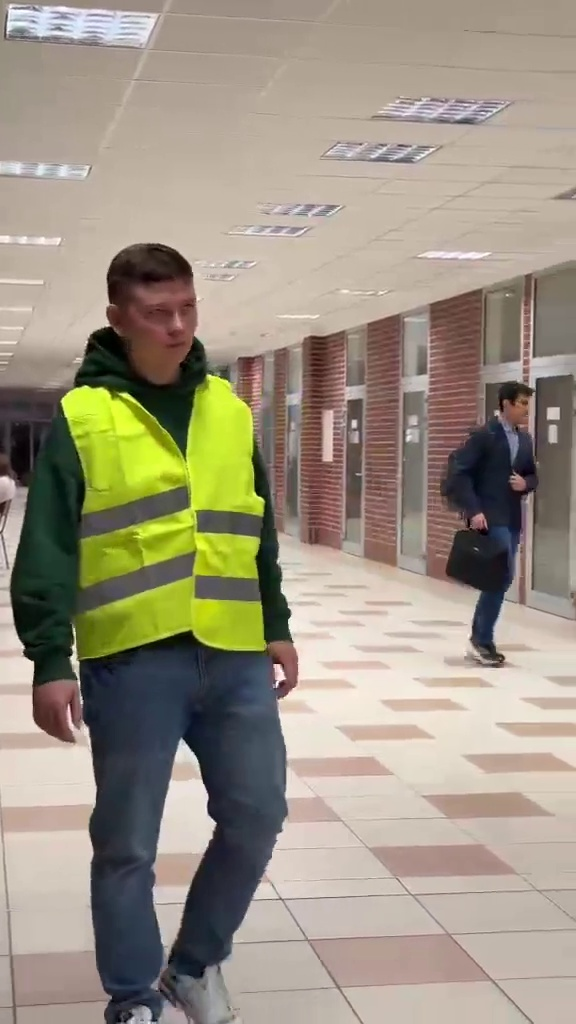no vest: (439, 374, 548, 678)
vest: (17, 245, 304, 1012)
